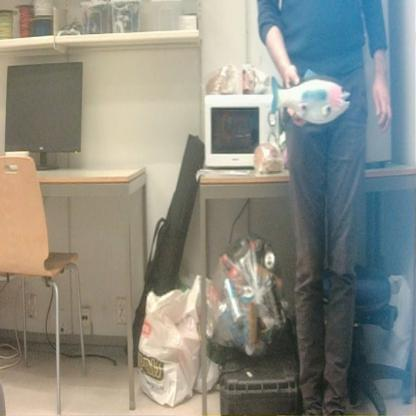rubberfish: (269, 67, 355, 128)
